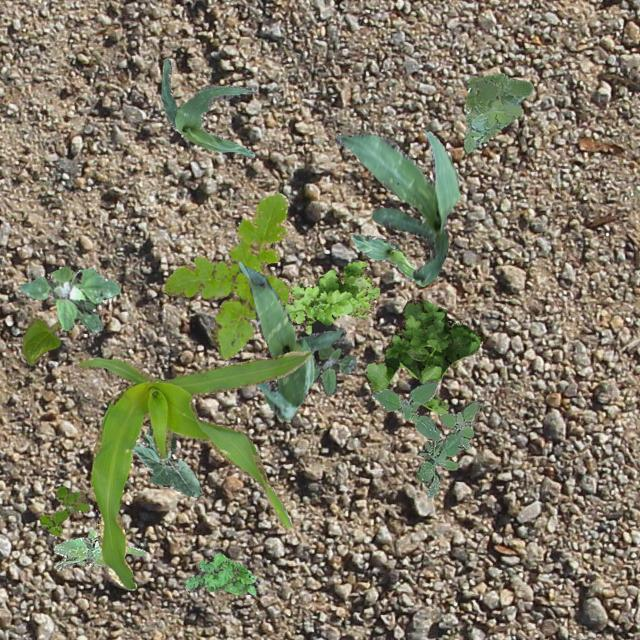crop: (78, 351, 312, 588), (334, 129, 459, 285), (238, 260, 346, 420), (160, 57, 254, 156), (132, 424, 200, 496), (349, 232, 414, 280), (20, 316, 61, 364)
weed: (164, 192, 290, 358), (364, 298, 484, 414), (372, 379, 479, 498), (282, 260, 378, 332), (18, 266, 120, 332), (462, 72, 532, 152), (52, 530, 144, 570), (184, 552, 258, 594), (38, 486, 88, 536), (312, 344, 356, 394)
